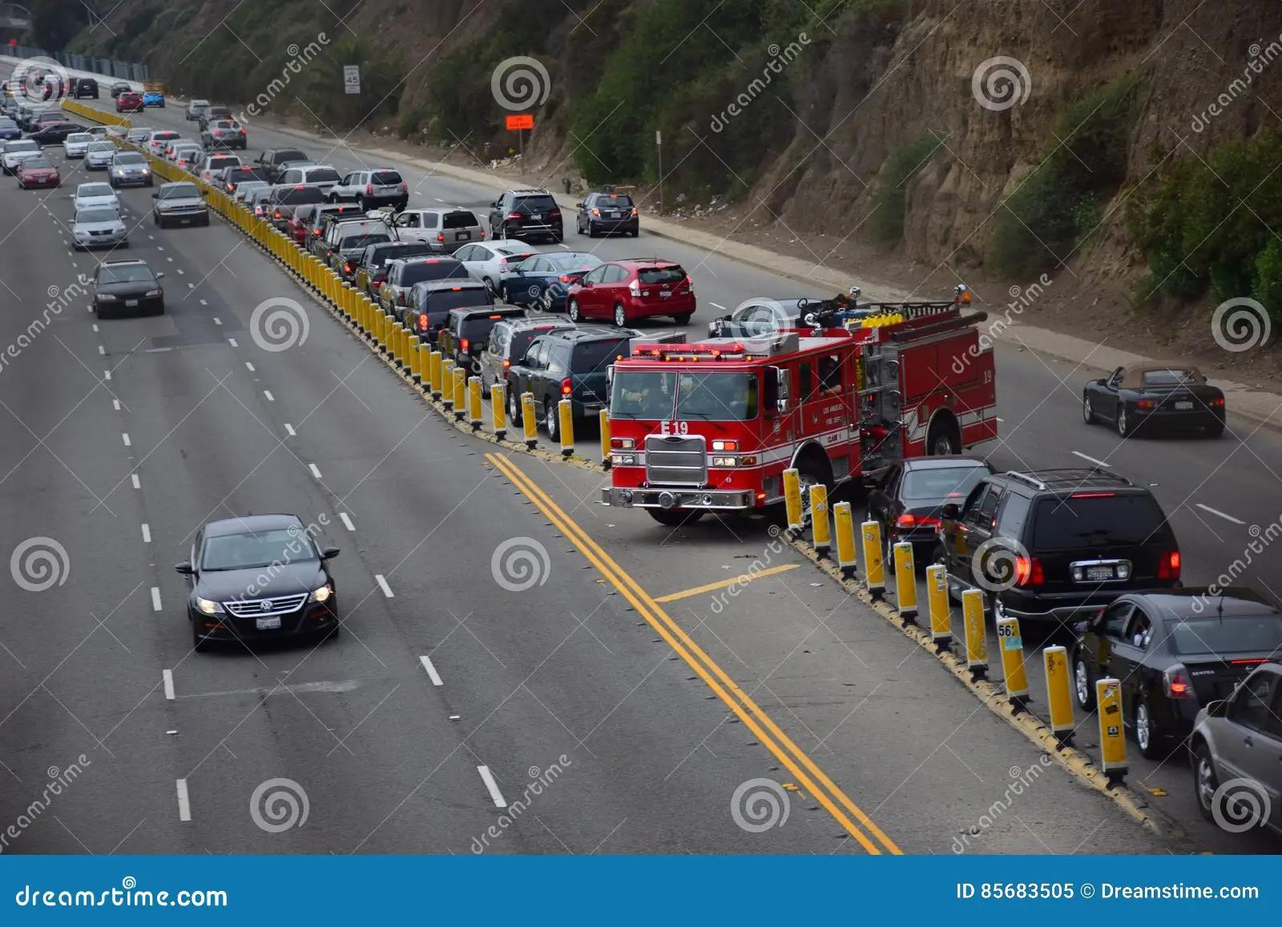Fire-engine: (606, 297, 1000, 526)
